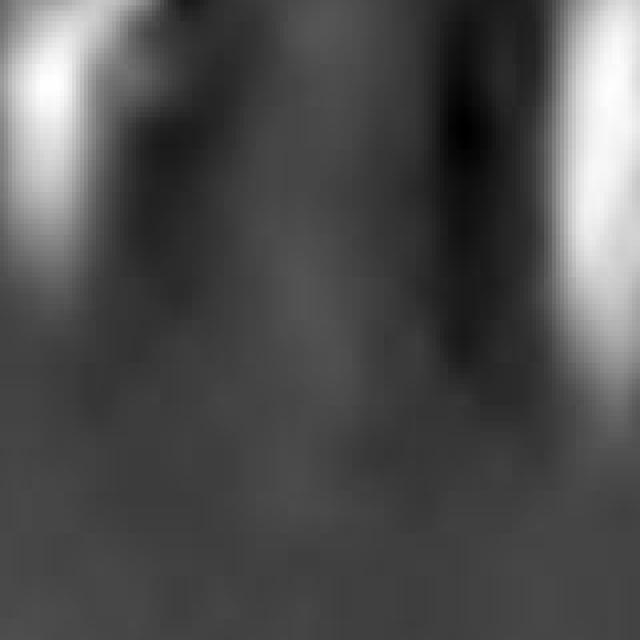person: (1, 1, 169, 332), (529, 1, 640, 428)
